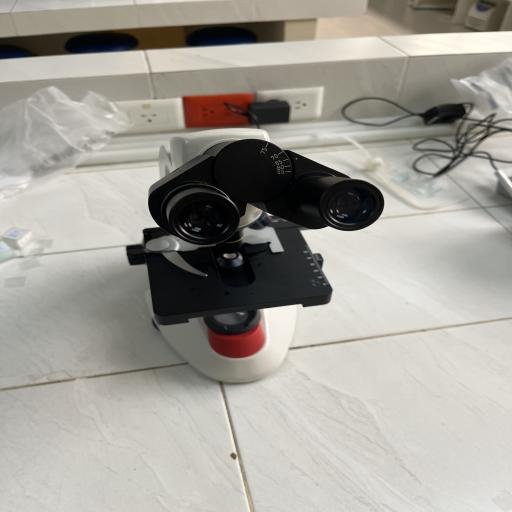Microscopio_Binocular: (102, 118, 397, 398)
